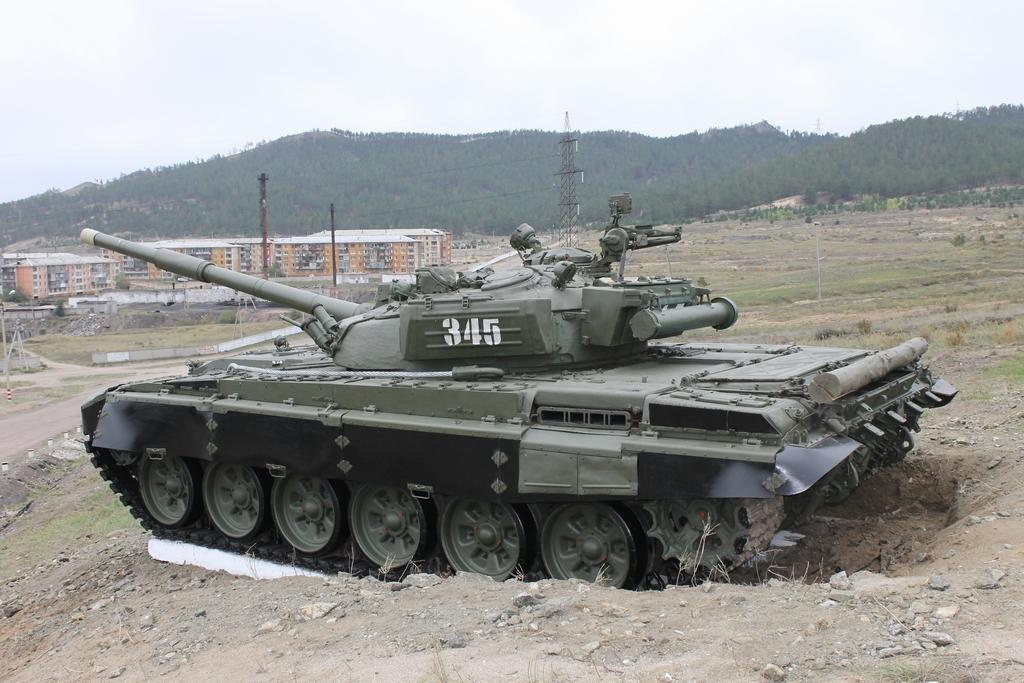tank: (64, 205, 995, 629)
